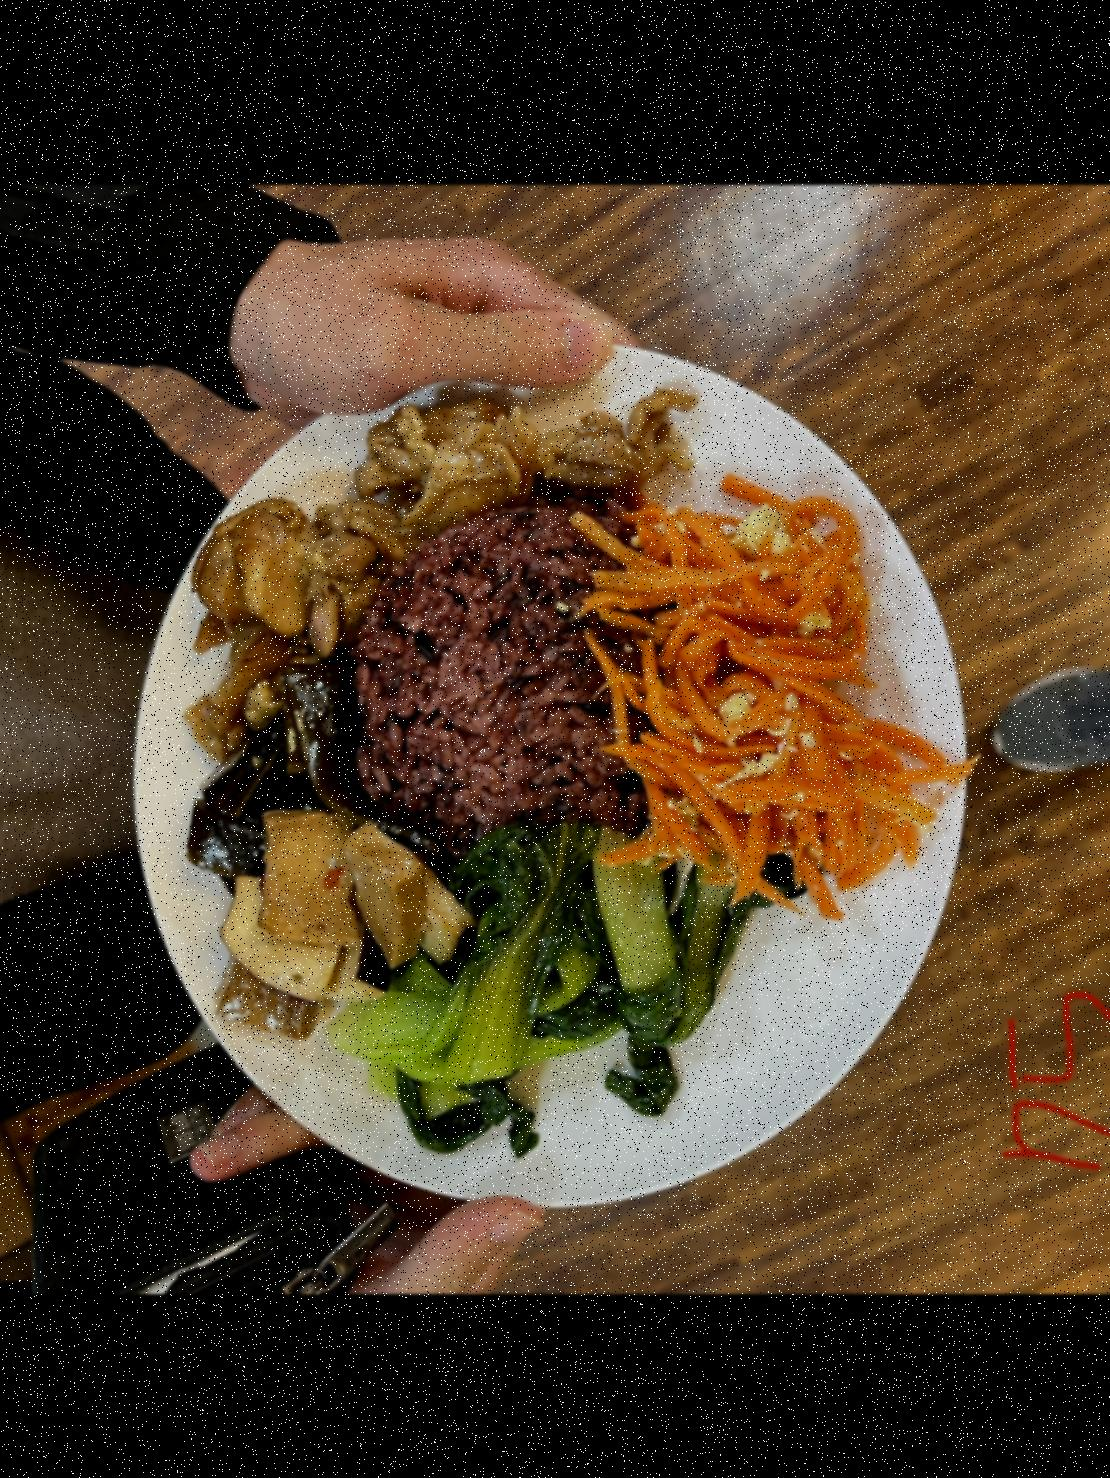plate: (140, 309, 972, 1223)
purple rice: (360, 504, 655, 845)
side dish: (579, 484, 948, 922), (360, 810, 746, 1136), (197, 653, 448, 1043)
three cup chicken: (174, 378, 696, 720)
